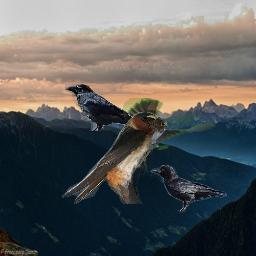Crow: (150, 165, 227, 213), (65, 84, 137, 131)
Swallow: (62, 112, 162, 204), (117, 98, 216, 150)
